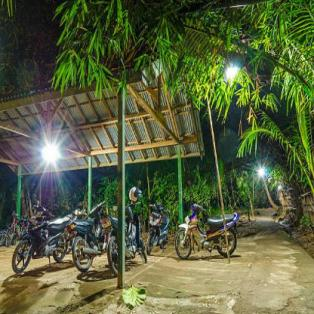Motocicleta: (178, 202, 239, 261)
